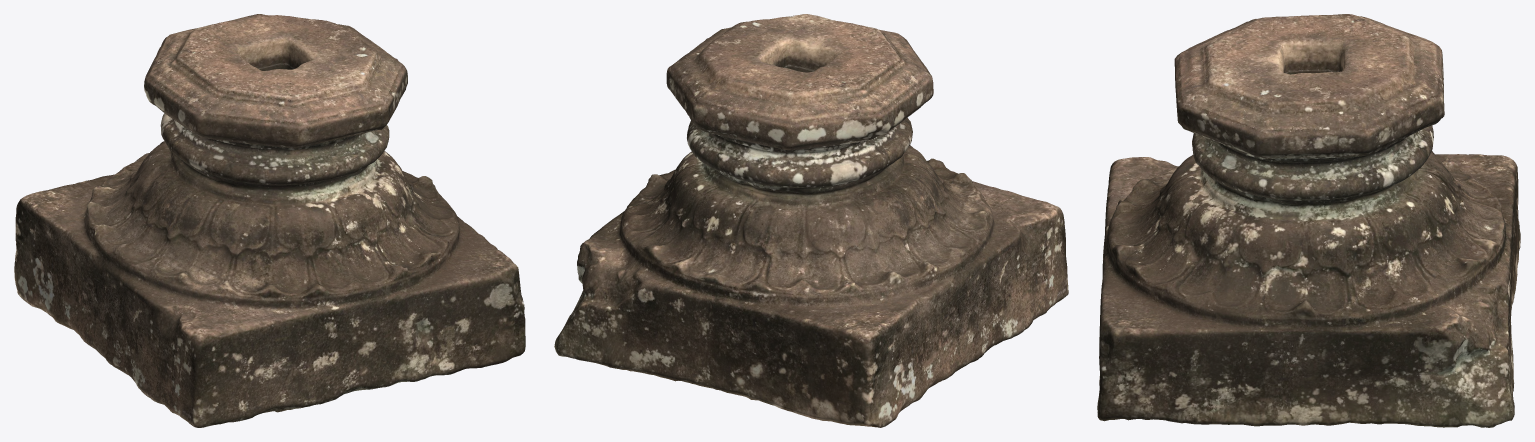
The model's file is 8_MysonSanctuaryB_Detru_final.glb.
3 renders of one model, left to right at view 1: azimuth 30°, elevation 25°; view 2: azimuth 150°, elevation 25°; view 3: azimuth 270°, elevation 25°, orthographic. The views are drawn at different scales.
Bounding box in the file's own units: 0.9833 × 0.7689 × 1.01.
Materials: 1 (1 with a texture image).
